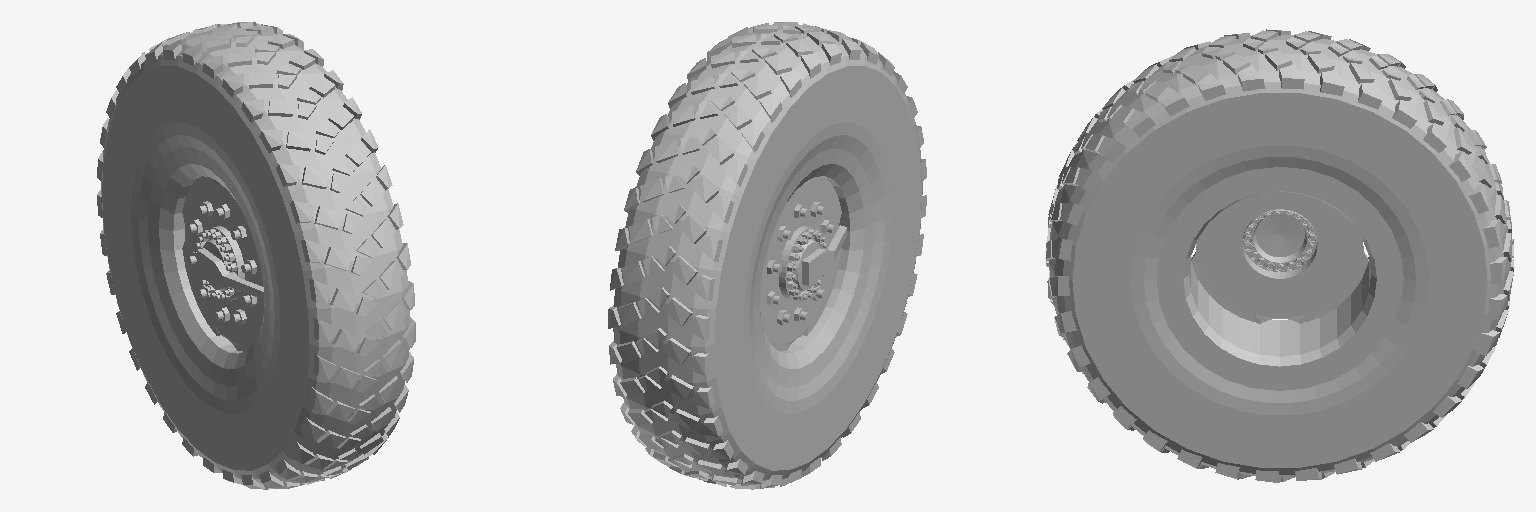
Rendered from wheel.obj.
The picture shows the model from 3 angles: view 1: azimuth 30°, elevation 25°; view 2: azimuth 150°, elevation 25°; view 3: azimuth 270°, elevation 25°; orthographic projection.
Parts seen in each view (by area): view 1: wheel01_Untitled.208; view 2: wheel01_Untitled.208; view 3: wheel01_Untitled.208.
Part boxes in pixels (x1,y1,x2,y2): wheel01_Untitled.208: (97,22,415,489); wheel01_Untitled.208: (608,22,926,489); wheel01_Untitled.208: (1045,29,1514,482).
Size of the model in its own units: 0.3192 by 1.29 by 1.29.